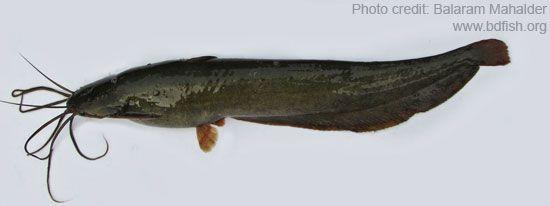Catfish: (12, 35, 516, 206)
